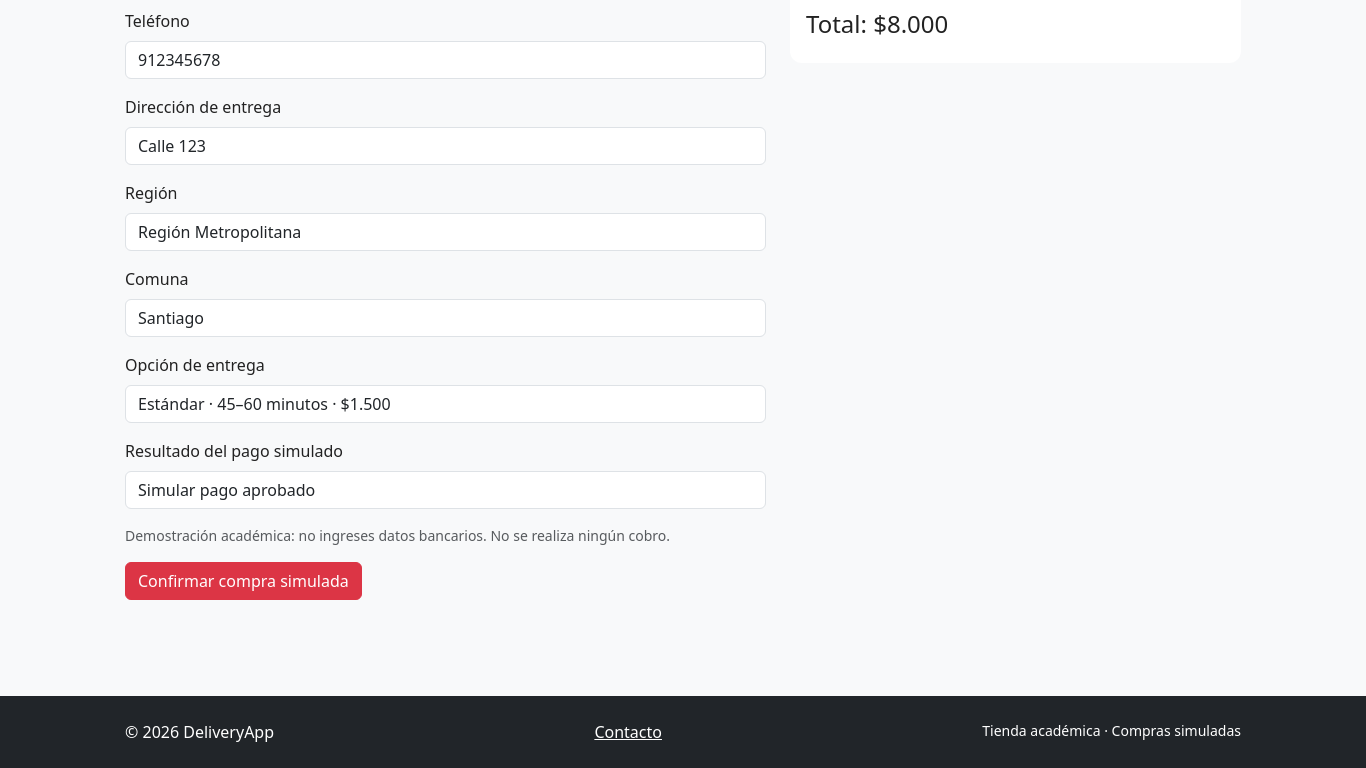
Test: Flujo integrado de checkout › muestra compra exitosa al vaciar el carrito tras confirmar
This screenshot has width=1366, height=768.
(page scrolled)
Step 1. Click the button "Confirmar compra simulada" → (243,581), box left=125, top=562, right=362, bottom=600
(page scrolled)
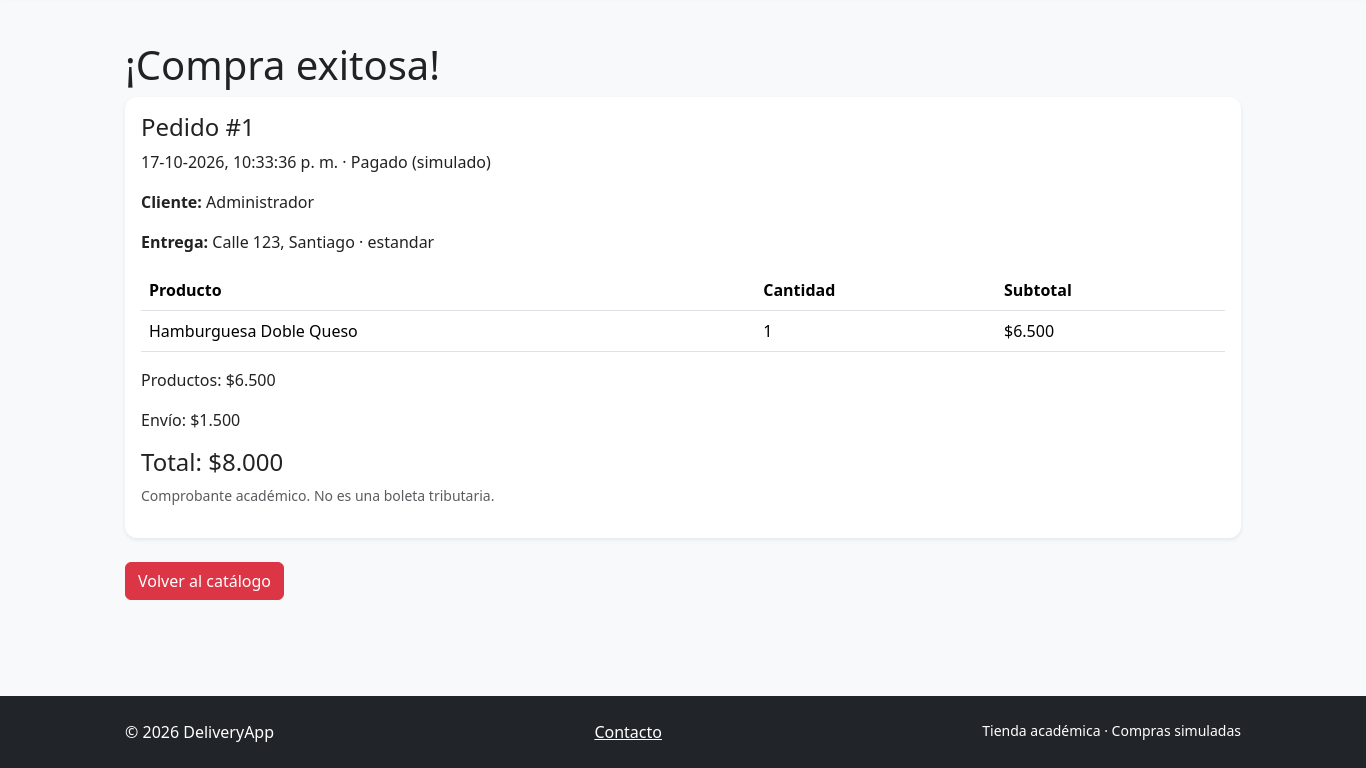
Result: the heading "¡Compra exitosa!" is shown at left=125, top=37, right=440, bottom=92
